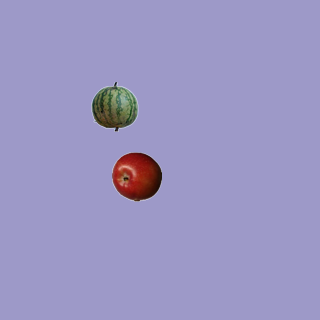Apple Braeburn: (111, 151, 161, 201)
Watermelon: (89, 81, 139, 131)
